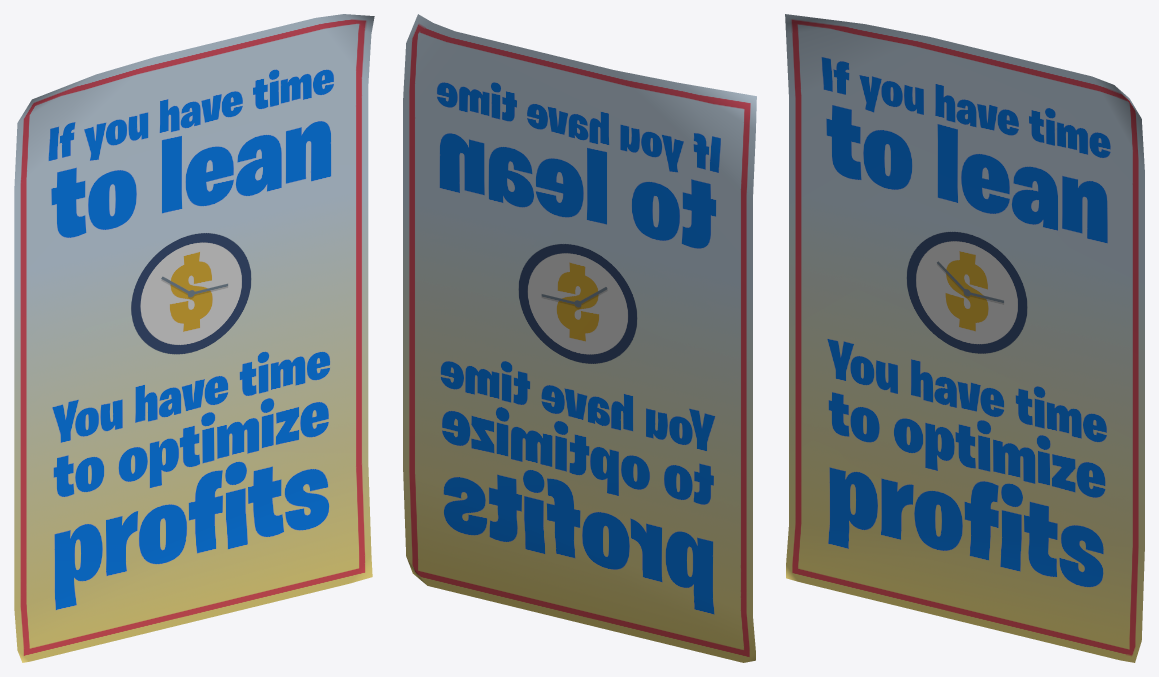
The model's file is SM_Factory_Poster_01.fbx.
The picture shows the model from 3 angles, left to right: view 1: azimuth 30°, elevation 25°; view 2: azimuth 150°, elevation 25°; view 3: azimuth 330°, elevation 25°; orthographic projection.
Visible parts, largest first — view 1: pPlane1; view 2: pPlane1; view 3: pPlane1.
Part boxes in pixels (x1,y1,x2,y2): pPlane1: [14, 14, 374, 662]; pPlane1: [403, 14, 756, 662]; pPlane1: [785, 14, 1144, 662].
Size of the model in its own units: 98.38 by 5.23 by 152.
